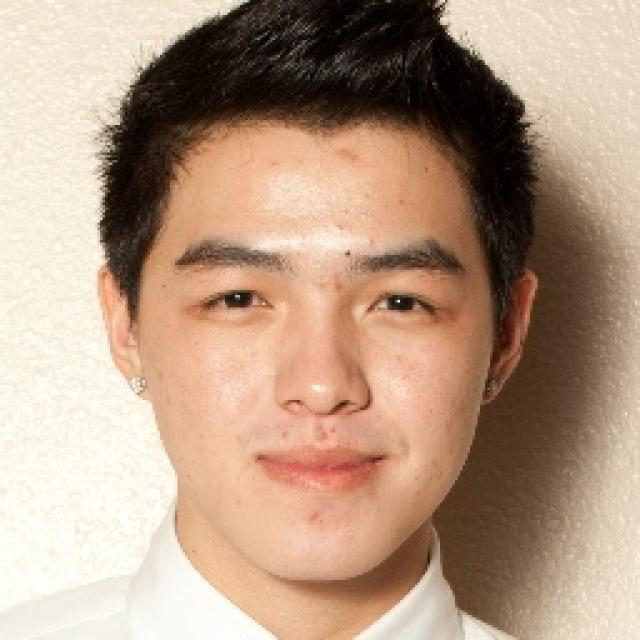earlobe: (119, 371, 148, 401), (479, 375, 508, 405)
eye: (195, 288, 282, 312), (368, 290, 437, 316)
nose: (278, 399, 368, 441)
wholeear: (479, 267, 538, 403), (96, 264, 151, 400)
